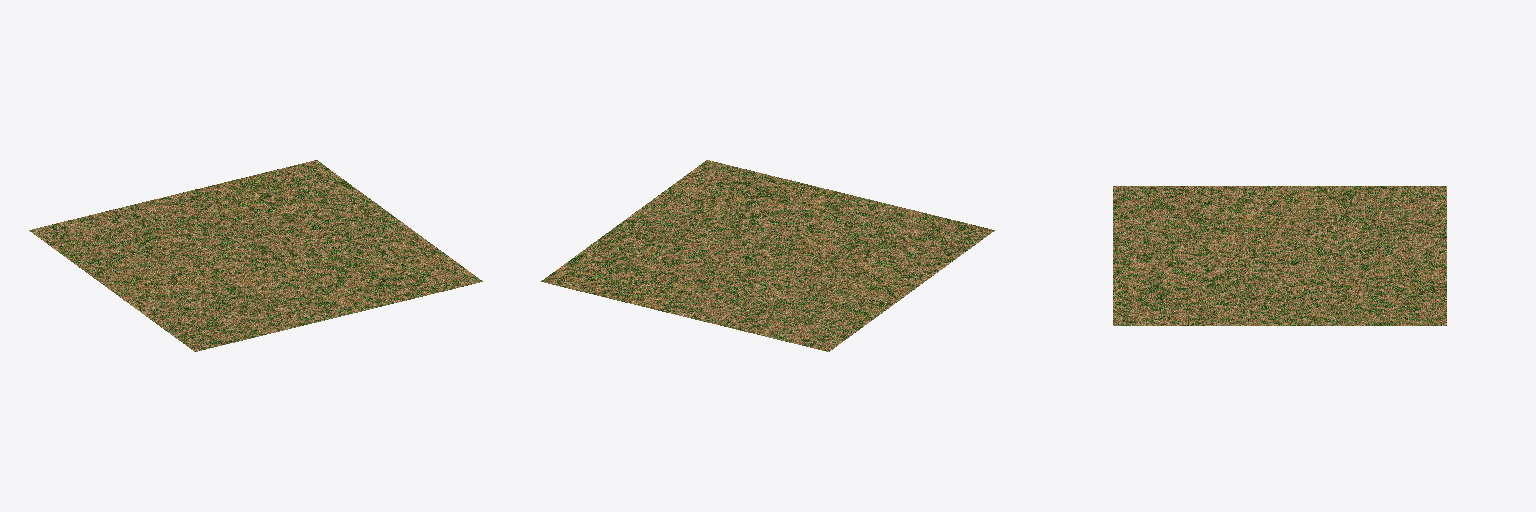
3 renders of one model, left to right at view 1: azimuth 30°, elevation 25°; view 2: azimuth 150°, elevation 25°; view 3: azimuth 270°, elevation 25°, orthographic.
Parts seen in each view (by area): view 1: pPlane1; view 2: pPlane1; view 3: pPlane1.
Boxes of the visible parts, <box> form: pPlane1: <box>29,160,482,351</box>; pPlane1: <box>541,160,994,351</box>; pPlane1: <box>1113,186,1446,325</box>.
Size of the model in its own units: 400 by 0 by 400.
1 materials, 1 textured.